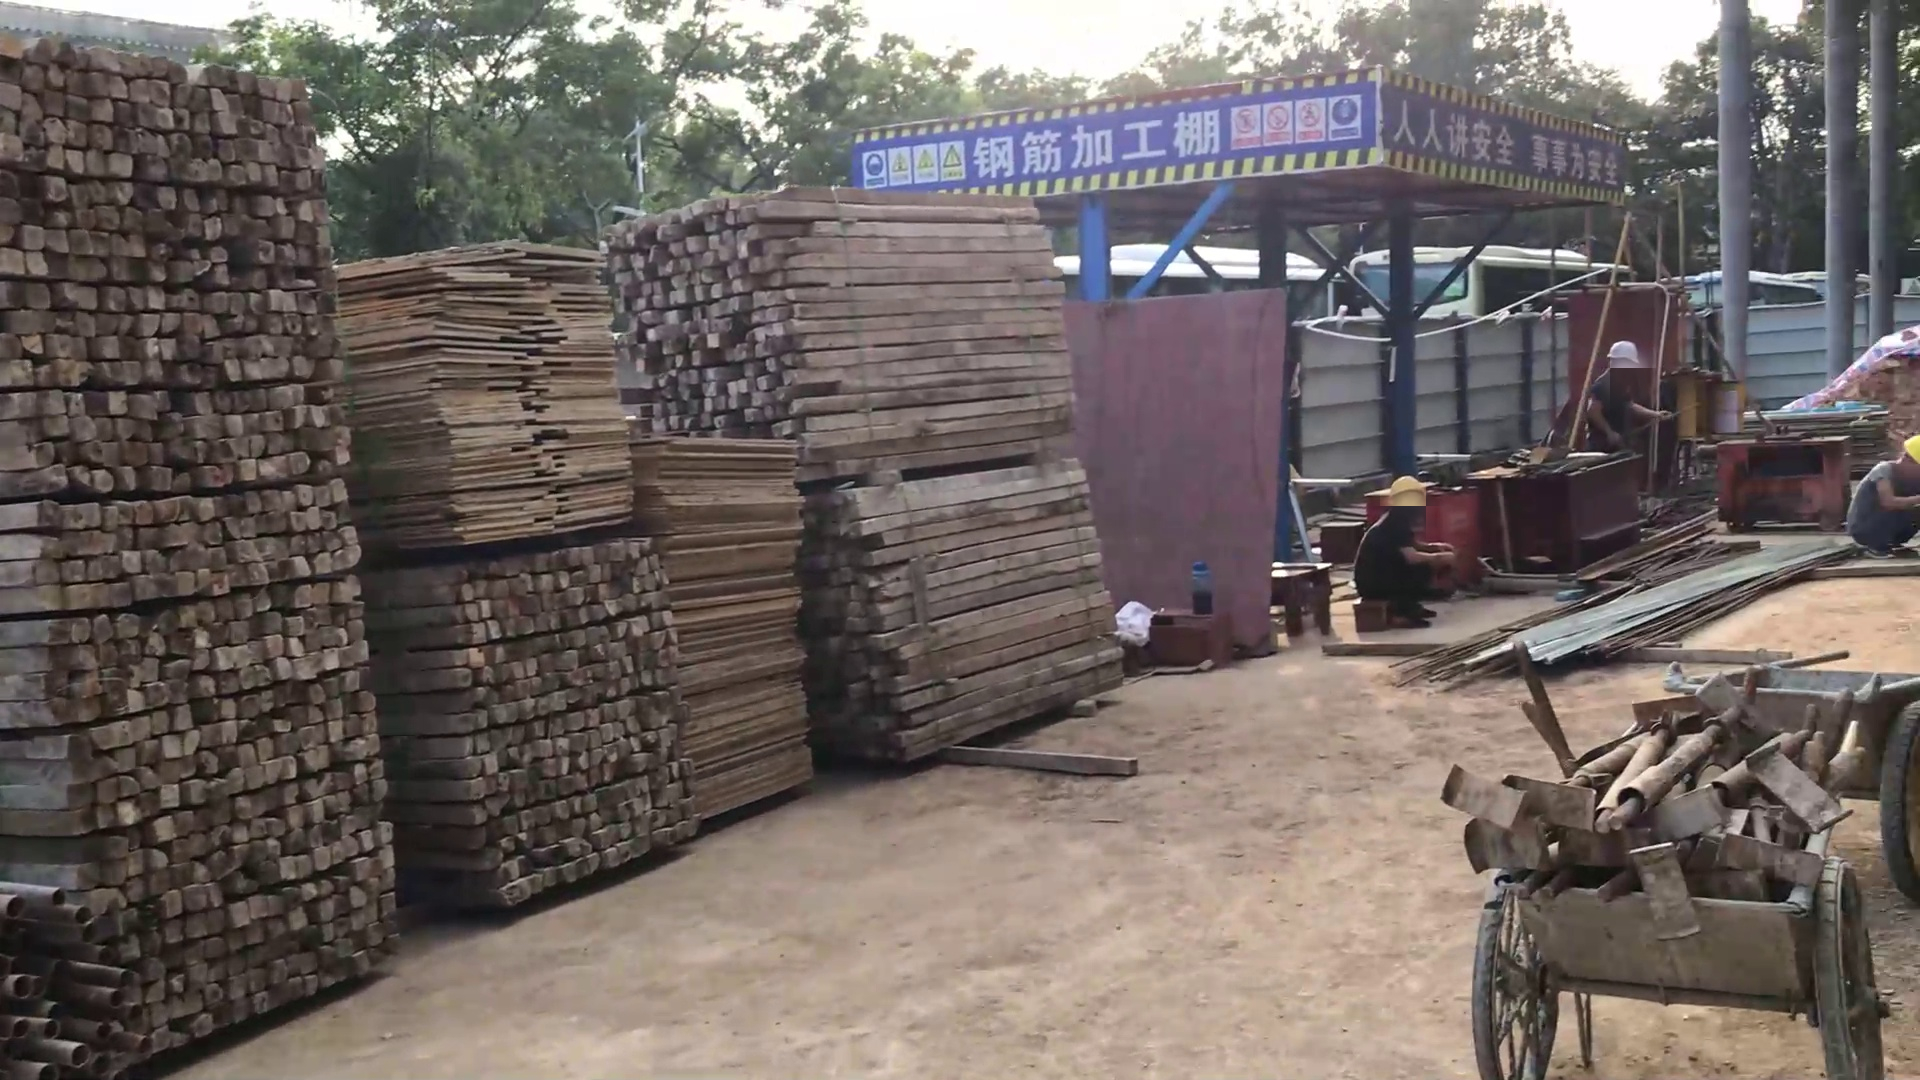board: (334, 233, 633, 542), (638, 441, 818, 825)
handcart: (1464, 769, 1894, 1080), (1664, 649, 1920, 906)
helmet: (1383, 468, 1429, 502), (1604, 337, 1641, 368), (1902, 432, 1920, 466)
person: (1351, 467, 1458, 632), (1583, 334, 1672, 457), (1843, 429, 1920, 562)
rebar: (1405, 543, 1795, 691)
scaffold: (1, 874, 159, 1079)
slogan: (857, 72, 1624, 198)
wood: (1, 34, 401, 1037), (362, 538, 699, 911), (604, 187, 1074, 436), (800, 440, 1124, 765)
